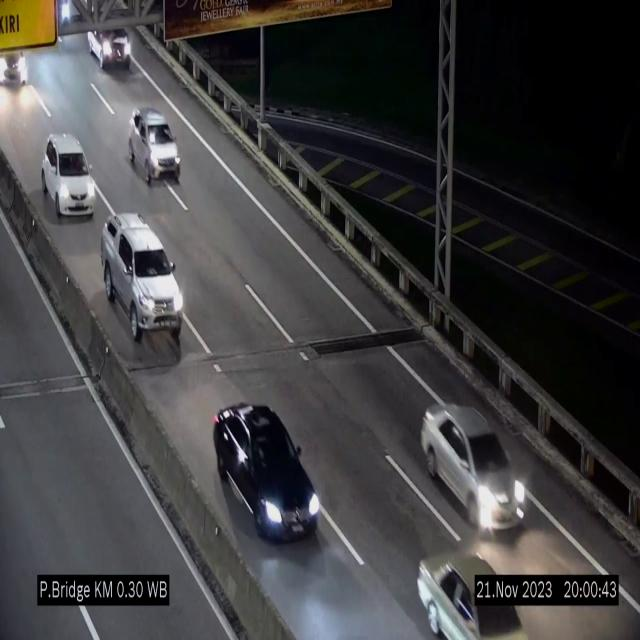Car: (422, 399, 527, 541), (214, 404, 320, 538), (418, 527, 528, 640), (101, 213, 183, 354), (42, 133, 96, 218), (130, 107, 180, 185), (87, 7, 137, 66)
